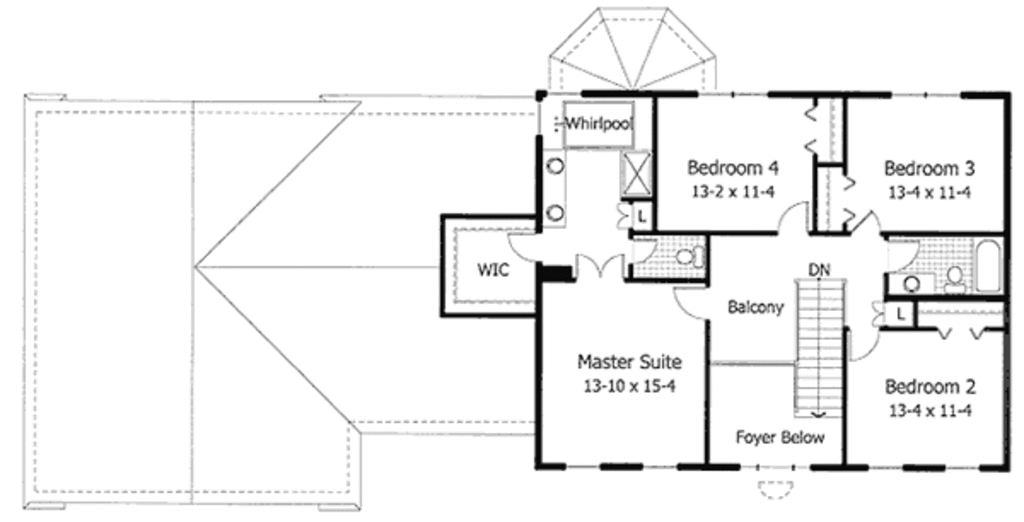door: (568, 254, 627, 284), (497, 230, 541, 266), (674, 284, 710, 325), (884, 238, 921, 273), (777, 199, 809, 239), (846, 328, 878, 364), (853, 209, 881, 237)
large_sink: (933, 264, 967, 295), (676, 246, 702, 270)
small_sink: (542, 150, 569, 231), (884, 271, 935, 296)
stairs: (793, 262, 844, 423)
tub: (972, 235, 1002, 299)
windows: (724, 458, 815, 476), (882, 88, 969, 105), (694, 90, 774, 102), (554, 458, 604, 477), (635, 456, 679, 474), (861, 458, 906, 474), (937, 461, 984, 473)
